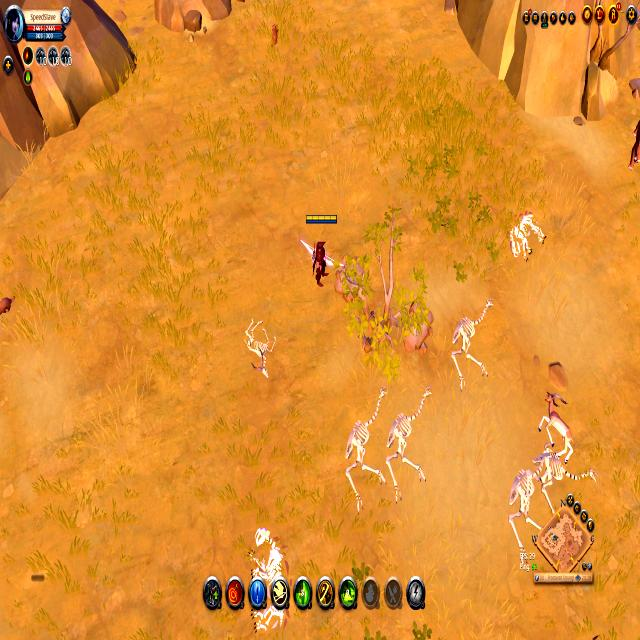mob: (537, 390, 577, 467)
ore: (627, 112, 640, 172)
red: (302, 211, 338, 287)
